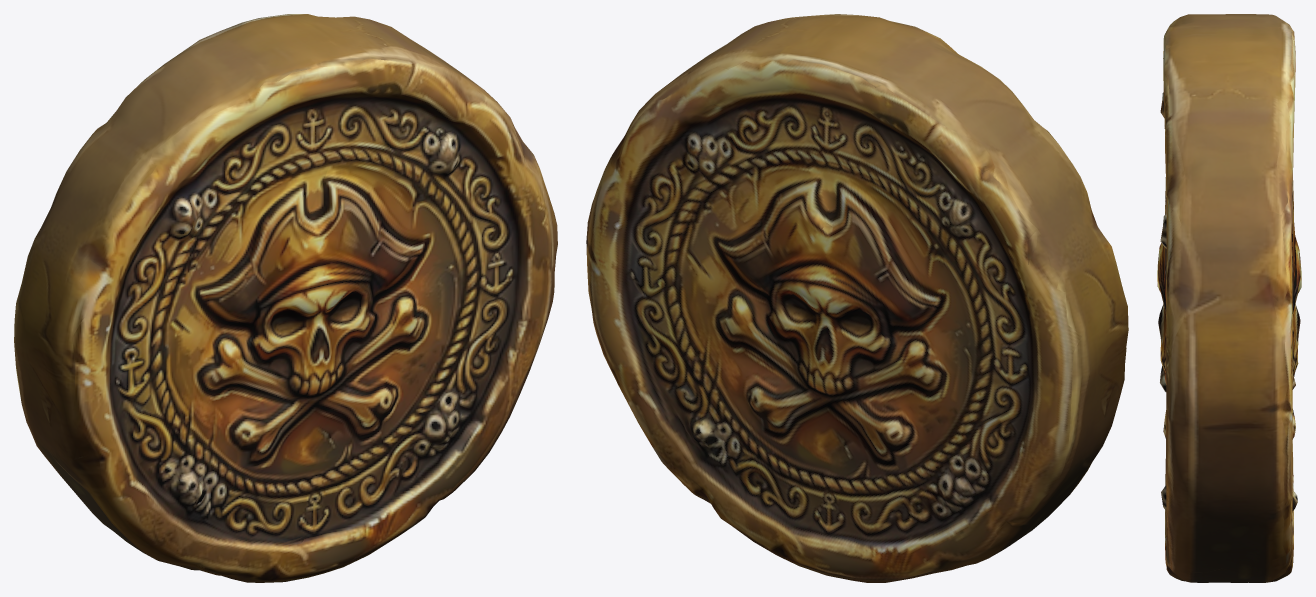
Rendered from gold_coin.glb.
3 renders of one model, left to right at view 1: azimuth 30°, elevation 25°; view 2: azimuth 150°, elevation 25°; view 3: azimuth 270°, elevation 25°, orthographic.
Visible parts, largest first — view 1: Coin; view 2: Coin; view 3: Coin.
Boxes of the visible parts, x1,y1,x2,y2 form: Coin: [14, 14, 557, 582]; Coin: [586, 14, 1128, 582]; Coin: [1157, 14, 1301, 582].
Size of the model in its own units: 0.0502 by 0.05 by 0.0126.
1 material, 1 textured.
